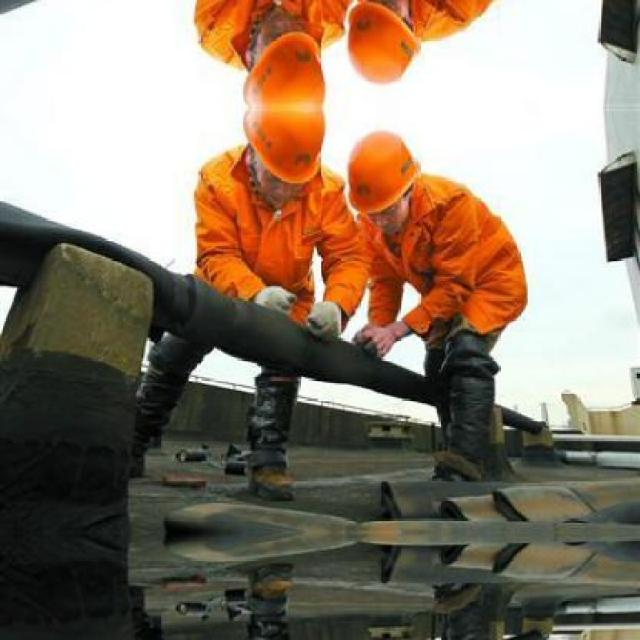helmet: (335, 121, 428, 230), (232, 105, 332, 193), (232, 19, 332, 107), (335, 0, 429, 92)
